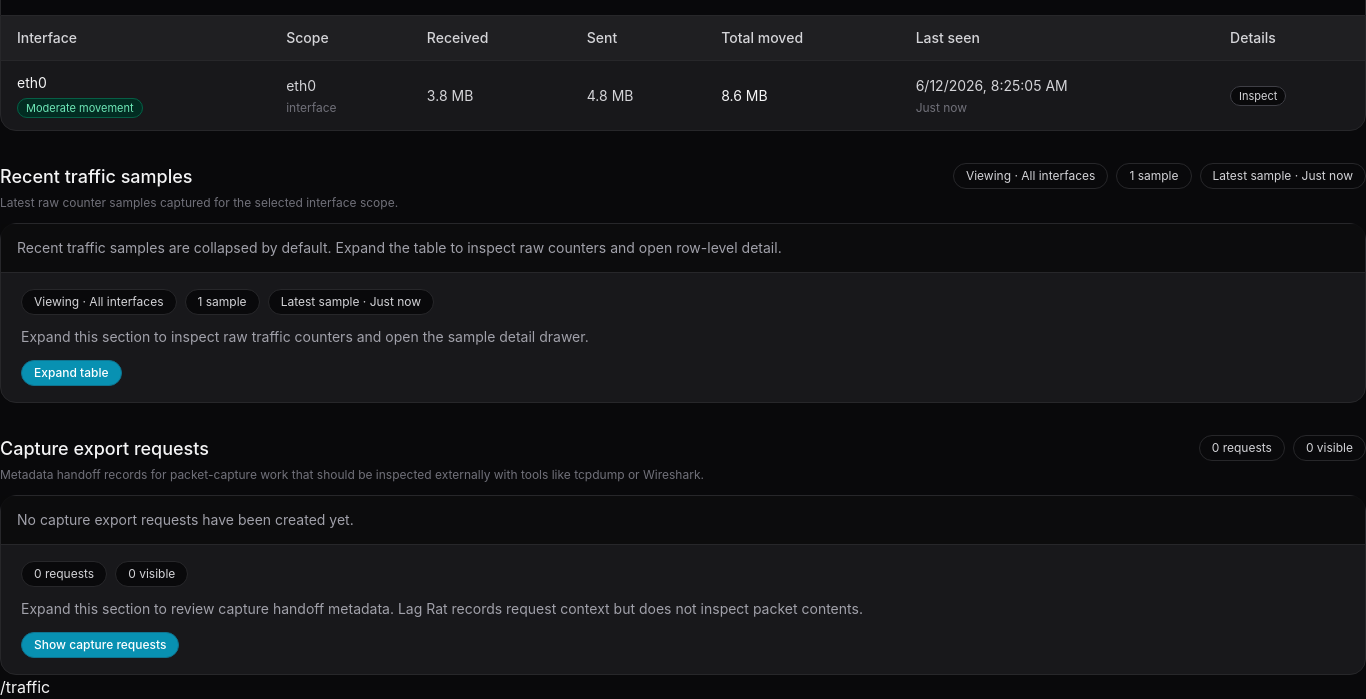
Test: TrafficPage › opens device details from the traffic sample drawer
The width and height of the screenshot is (1366, 699).
(page scrolled)
What coordinates should you click on to do the following:
click the button "Expand table"
I would click on:
 (71, 373)
Its box is [21,360,122,386].
(page scrolled)
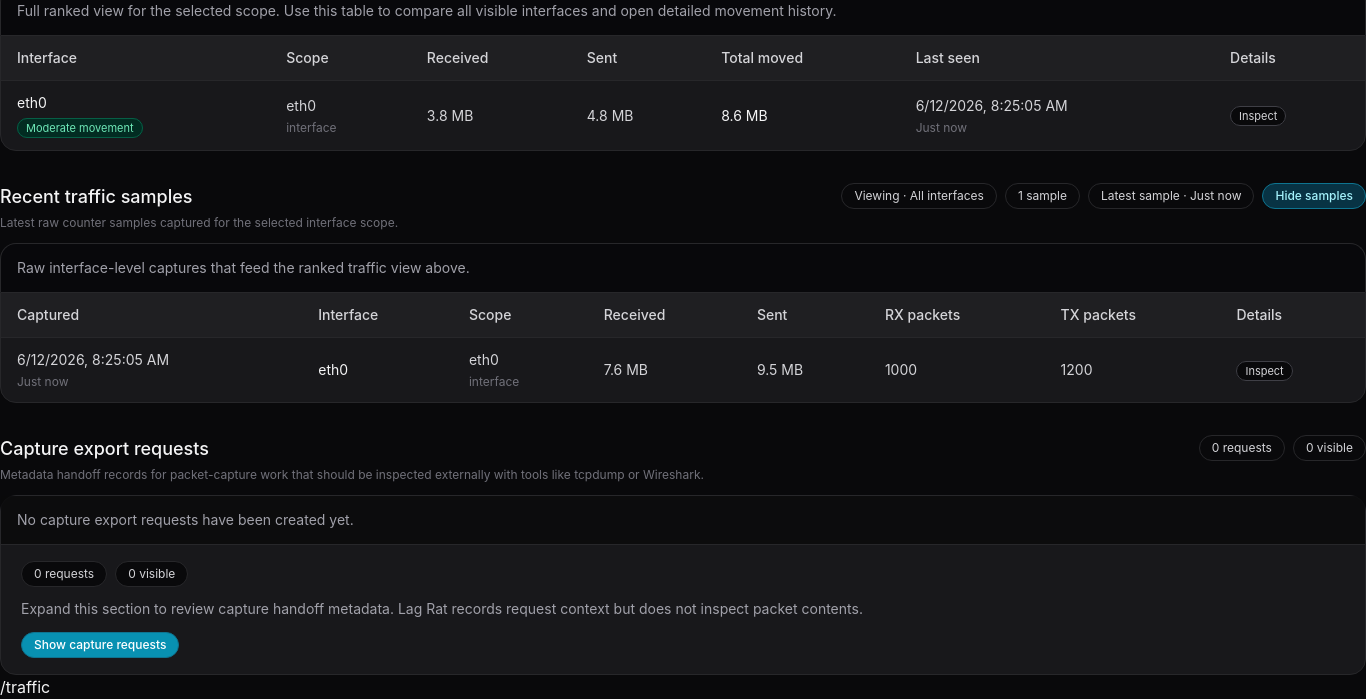
What coordinates should you click on to do the following:
click the text "eth0"
I would click on:
 (333, 370)
Its box is [302,338,453,402].
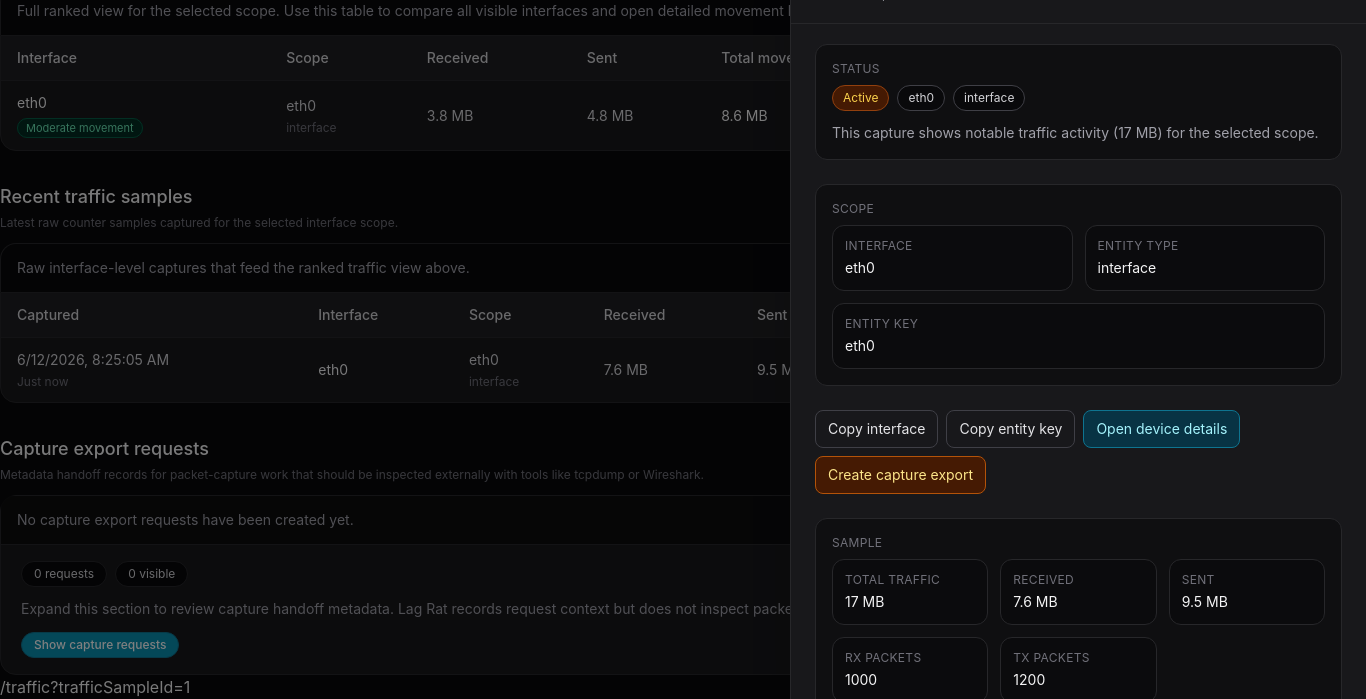
What coordinates should you click on to do the following:
click the button "Open device details"
I would click on:
 (1162, 429)
Its box is [1083,410,1240,448].
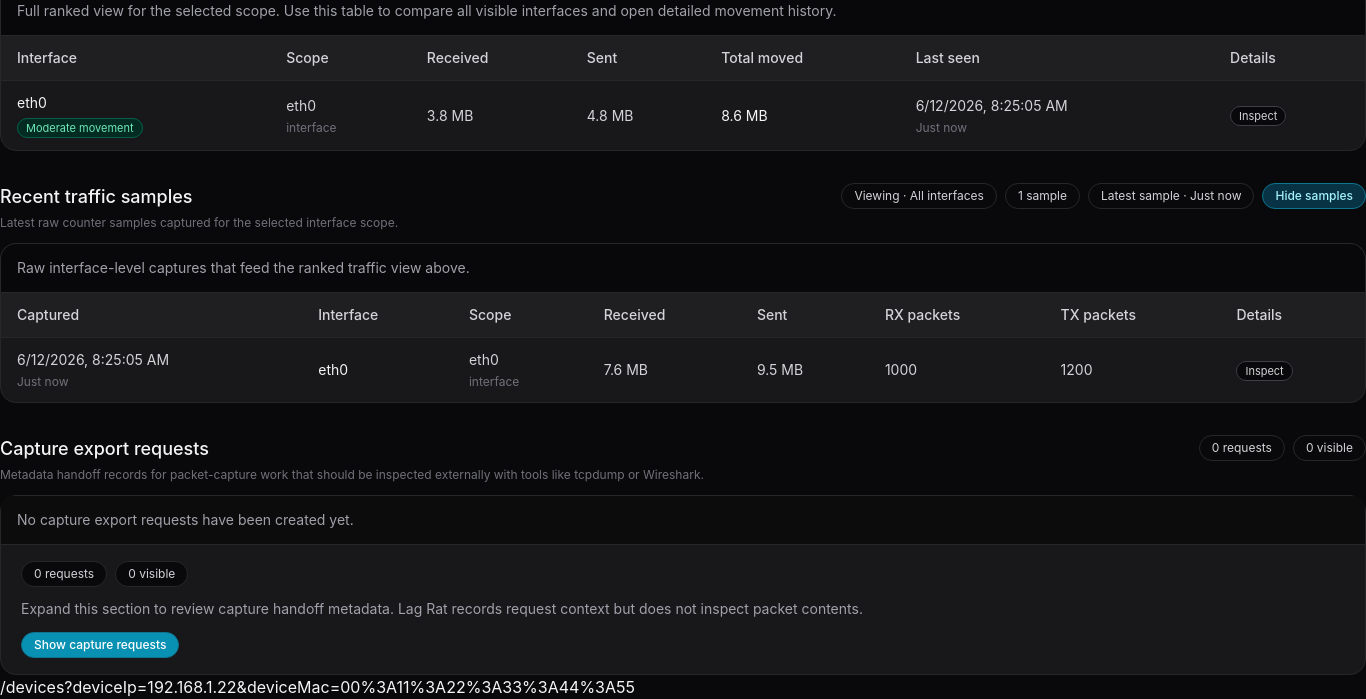
Result: the text with test id "location-search" shows "/devices?" at [0,677,635,697]
Result: the text with test id "location-search" shows "deviceIp=192.168.1.22" at [0,677,635,697]
Result: the text with test id "location-search" shows "deviceMac=00%3A11%3A22%3A33%3A44%3A55" at [0,677,635,697]
